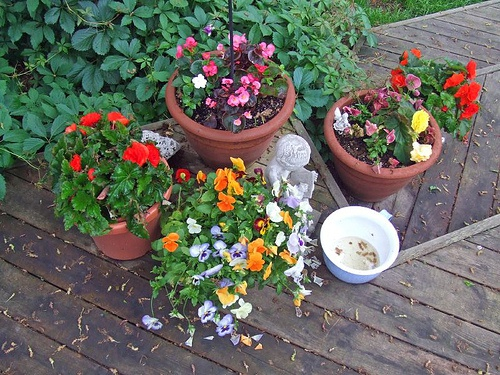flowerpot: (167, 55, 298, 178), (325, 89, 444, 205), (70, 159, 172, 262)
